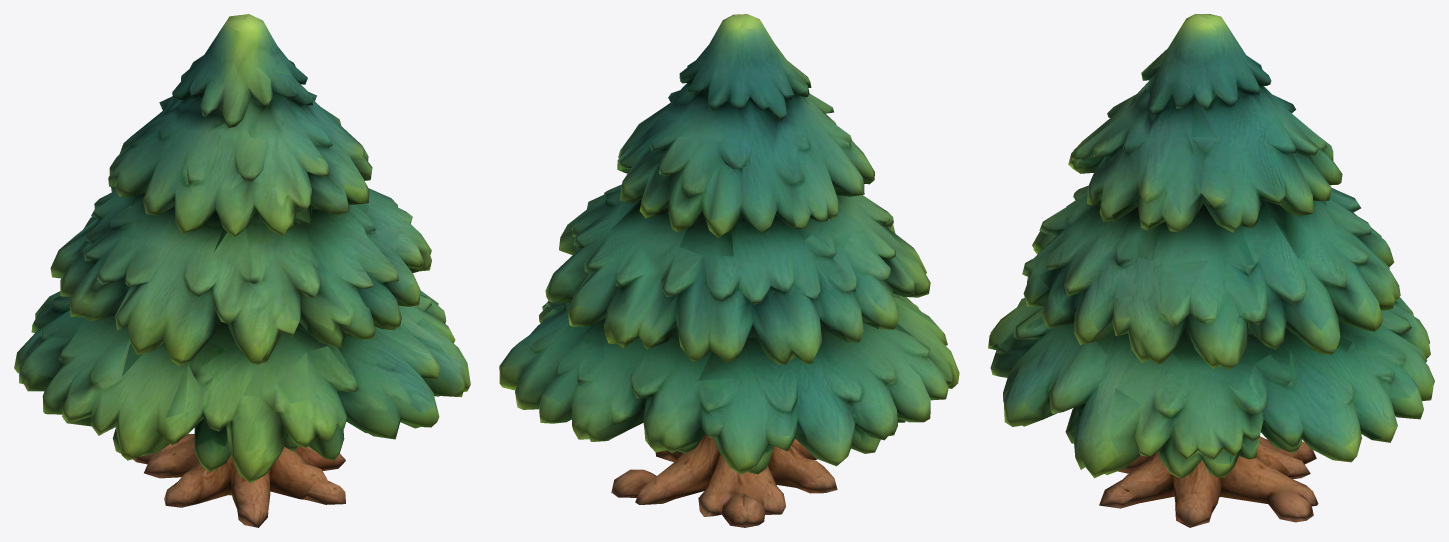
Rendered from pine-mobile.glb.
The picture shows the model from 3 angles, left to right: view 1: azimuth 30°, elevation 25°; view 2: azimuth 150°, elevation 25°; view 3: azimuth 270°, elevation 25°; orthographic projection.
Visible parts, largest first — view 1: node_0; view 2: node_0; view 3: node_0.
Part boxes in pixels (bbox=[...]): node_0: bbox=[14, 14, 470, 527]; node_0: bbox=[499, 14, 959, 527]; node_0: bbox=[988, 14, 1434, 527].
Size of the model in its own units: 0.9427 by 1.07 by 0.9285.
1 material, 1 textured.
